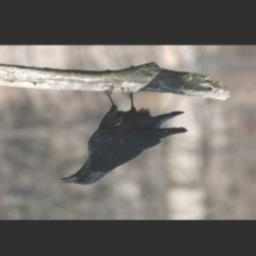Crow: (53, 82, 190, 188)
